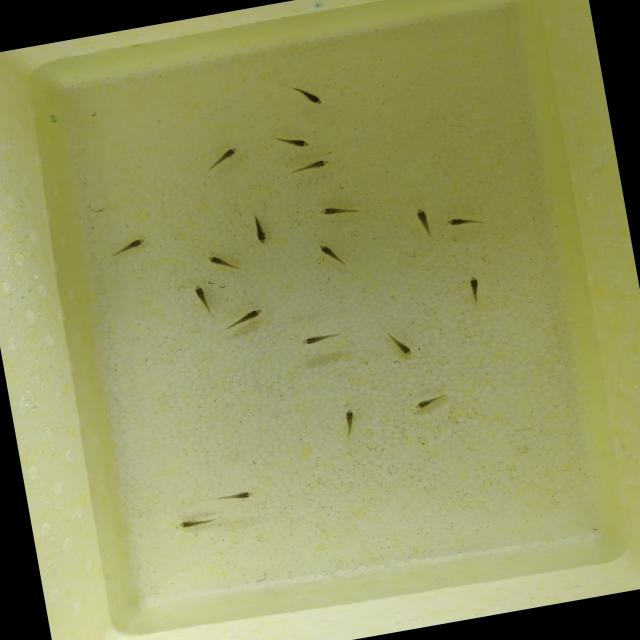fingerling: (210, 306, 270, 336), (312, 237, 358, 276), (194, 144, 243, 176), (378, 322, 418, 361), (316, 198, 372, 222), (286, 79, 326, 111), (280, 156, 335, 178), (268, 128, 314, 154), (168, 511, 224, 532), (106, 234, 150, 260), (208, 486, 259, 507), (295, 327, 346, 348), (204, 249, 242, 277), (444, 210, 489, 232), (186, 279, 214, 314), (411, 204, 436, 243), (336, 405, 362, 442), (463, 272, 488, 308), (407, 392, 451, 411), (250, 211, 270, 246)
